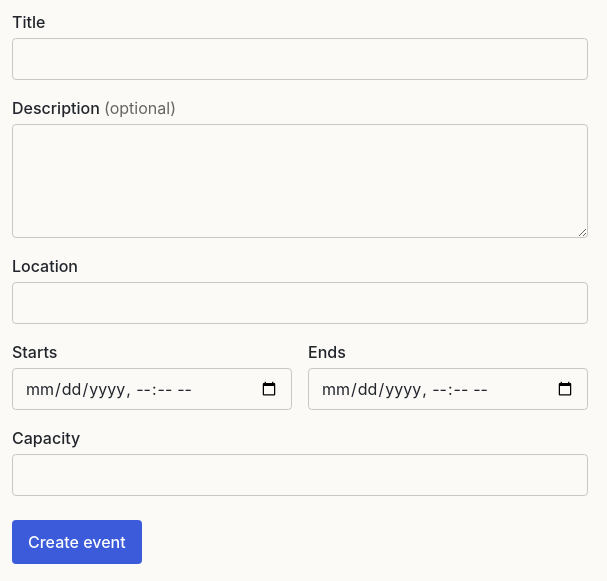
EventForm › disables the button while saving to block double submits
In the field labelled "Title": [300, 59] box x1=12 y1=38 x2=588 y2=80, type "Board games"
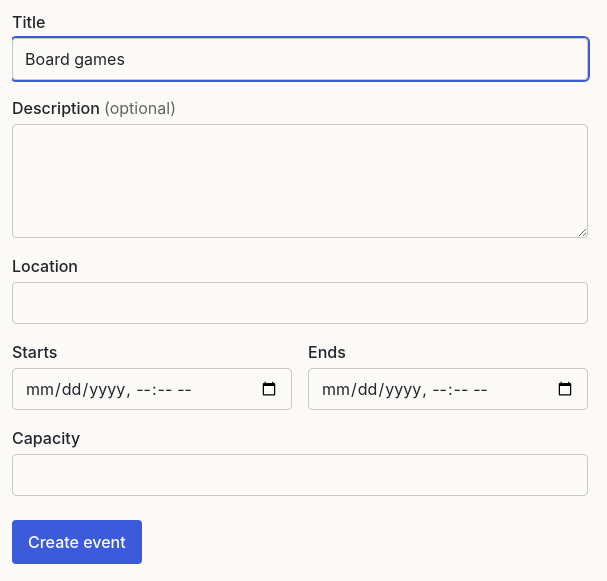
In the field labelled "Location": [300, 303] box x1=12 y1=282 x2=588 y2=324, type "Library"
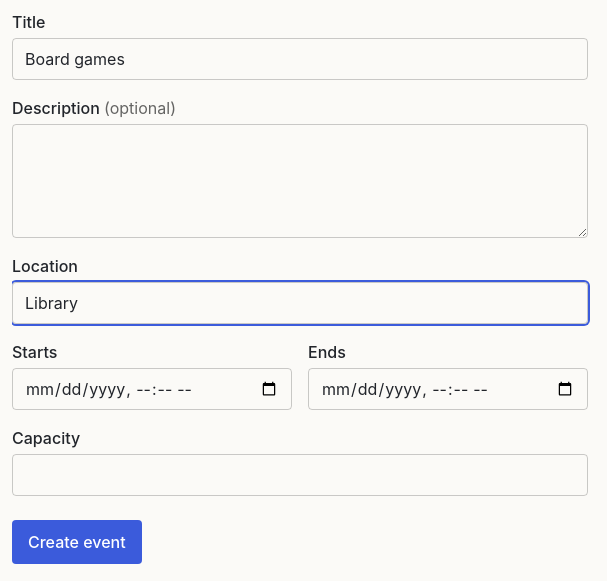
In the field labelled "Starts": [152, 389] box x1=12 y1=368 x2=292 y2=410, type "2026-11-14T18:00"
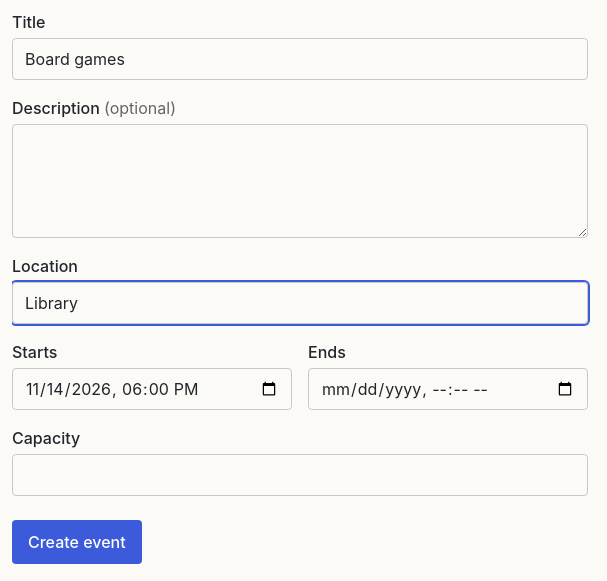
In the field labelled "Ends": [448, 389] box x1=308 y1=368 x2=588 y2=410, type "2026-11-14T21:00"
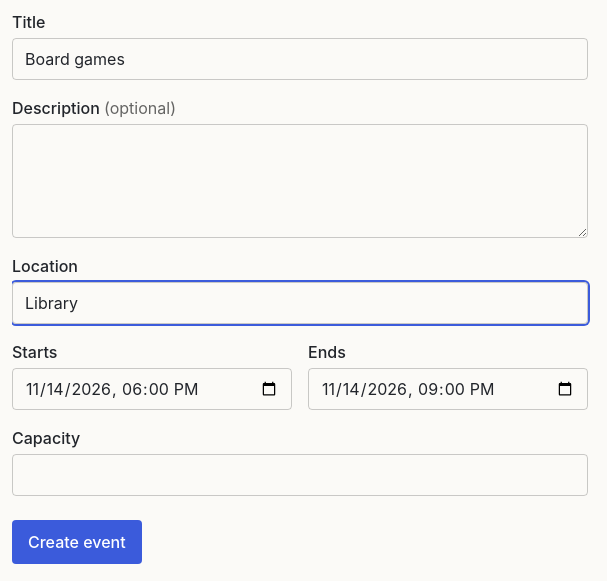
In the number field labelled "Capacity": [300, 475] box x1=12 y1=454 x2=588 y2=496, type "10"
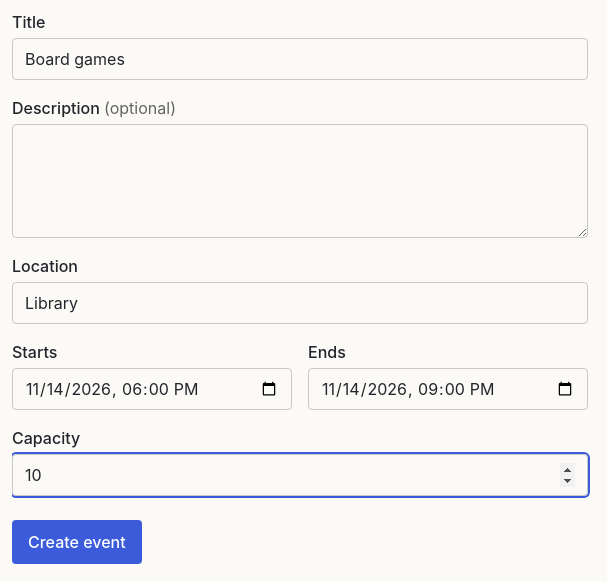
Click the button "Create event": [77, 542] box x1=12 y1=520 x2=142 y2=564
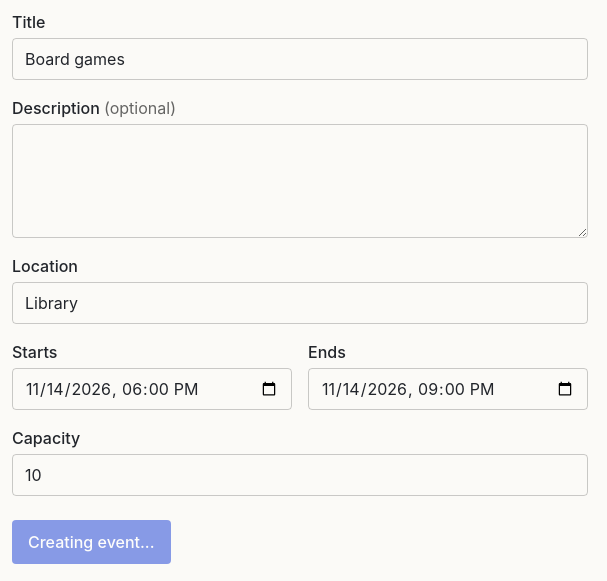
Now the button "Creating event..." is disabled, box x1=12 y1=520 x2=170 y2=564
Now the button "Create event" is gone
